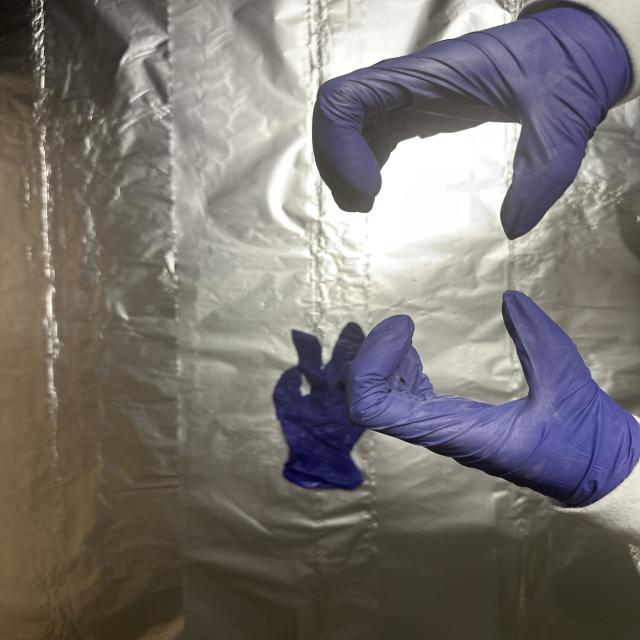gloves_contaminated: (312, 2, 632, 240), (346, 291, 640, 507)
